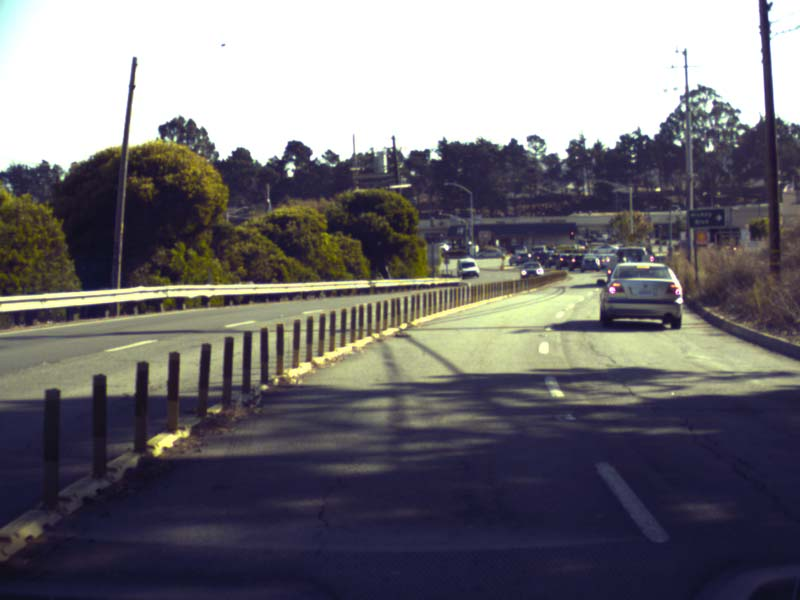Red: (569, 230, 573, 239)
